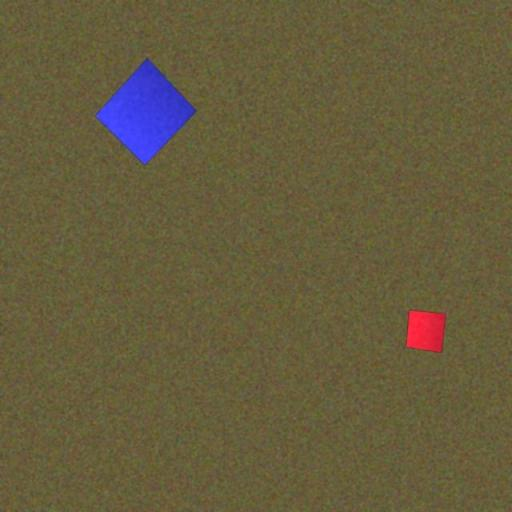BLUE_SQUARE: (94, 57, 198, 166)
RED_SQUARE: (406, 310, 446, 354)
